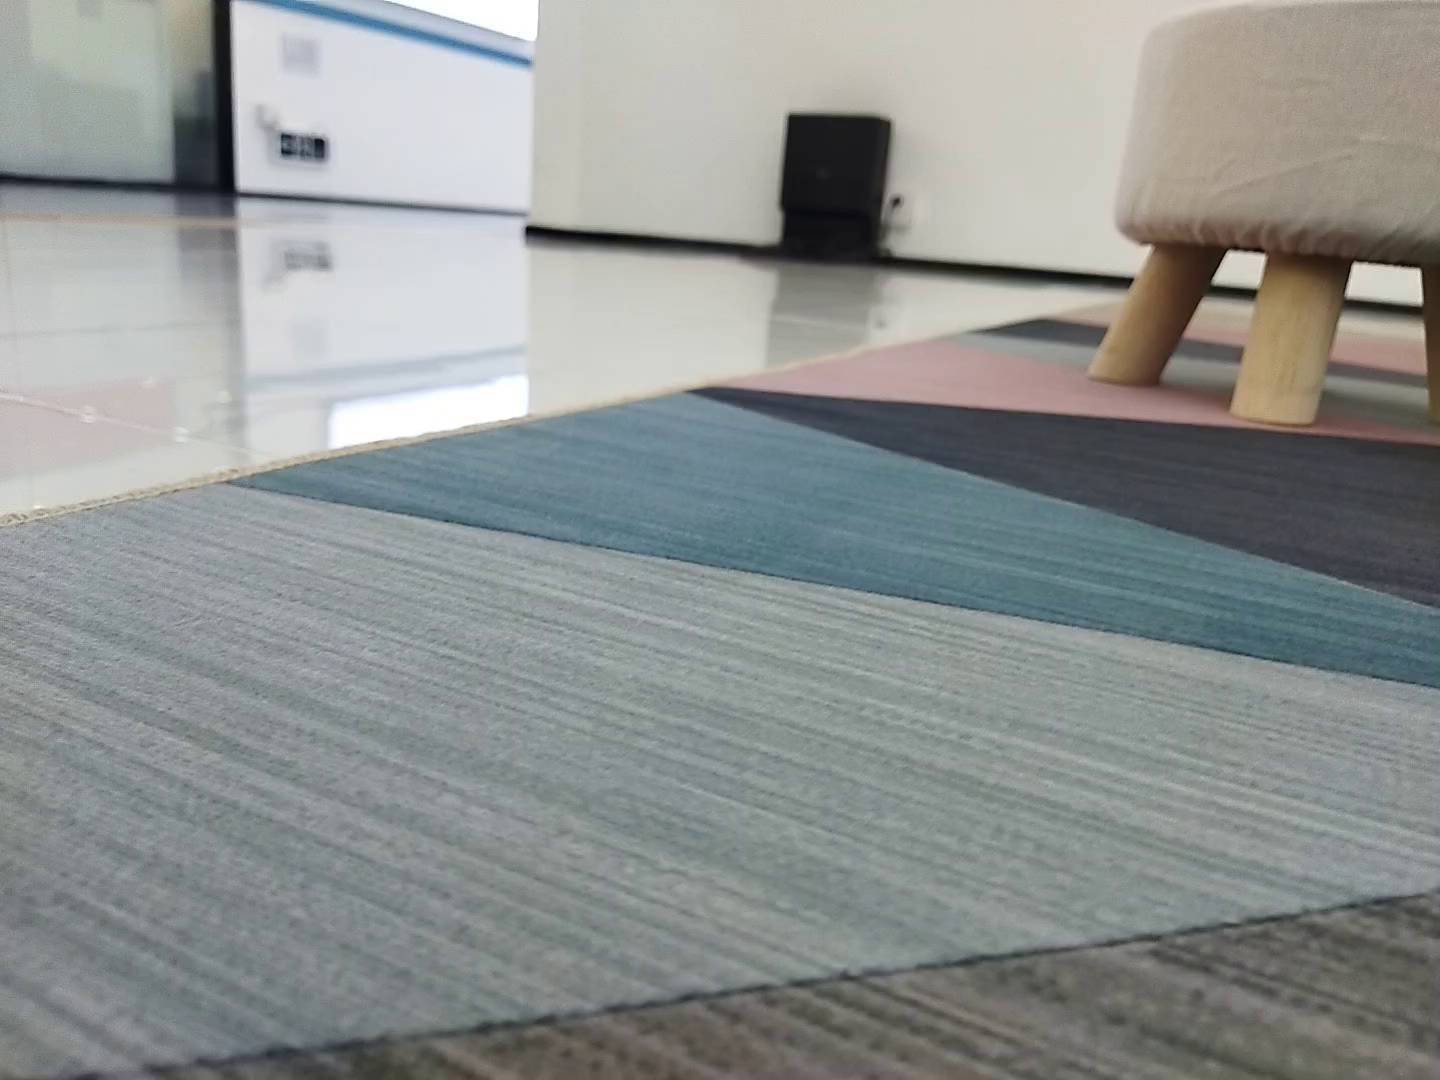dust collecting barrel: (748, 110, 895, 265)
